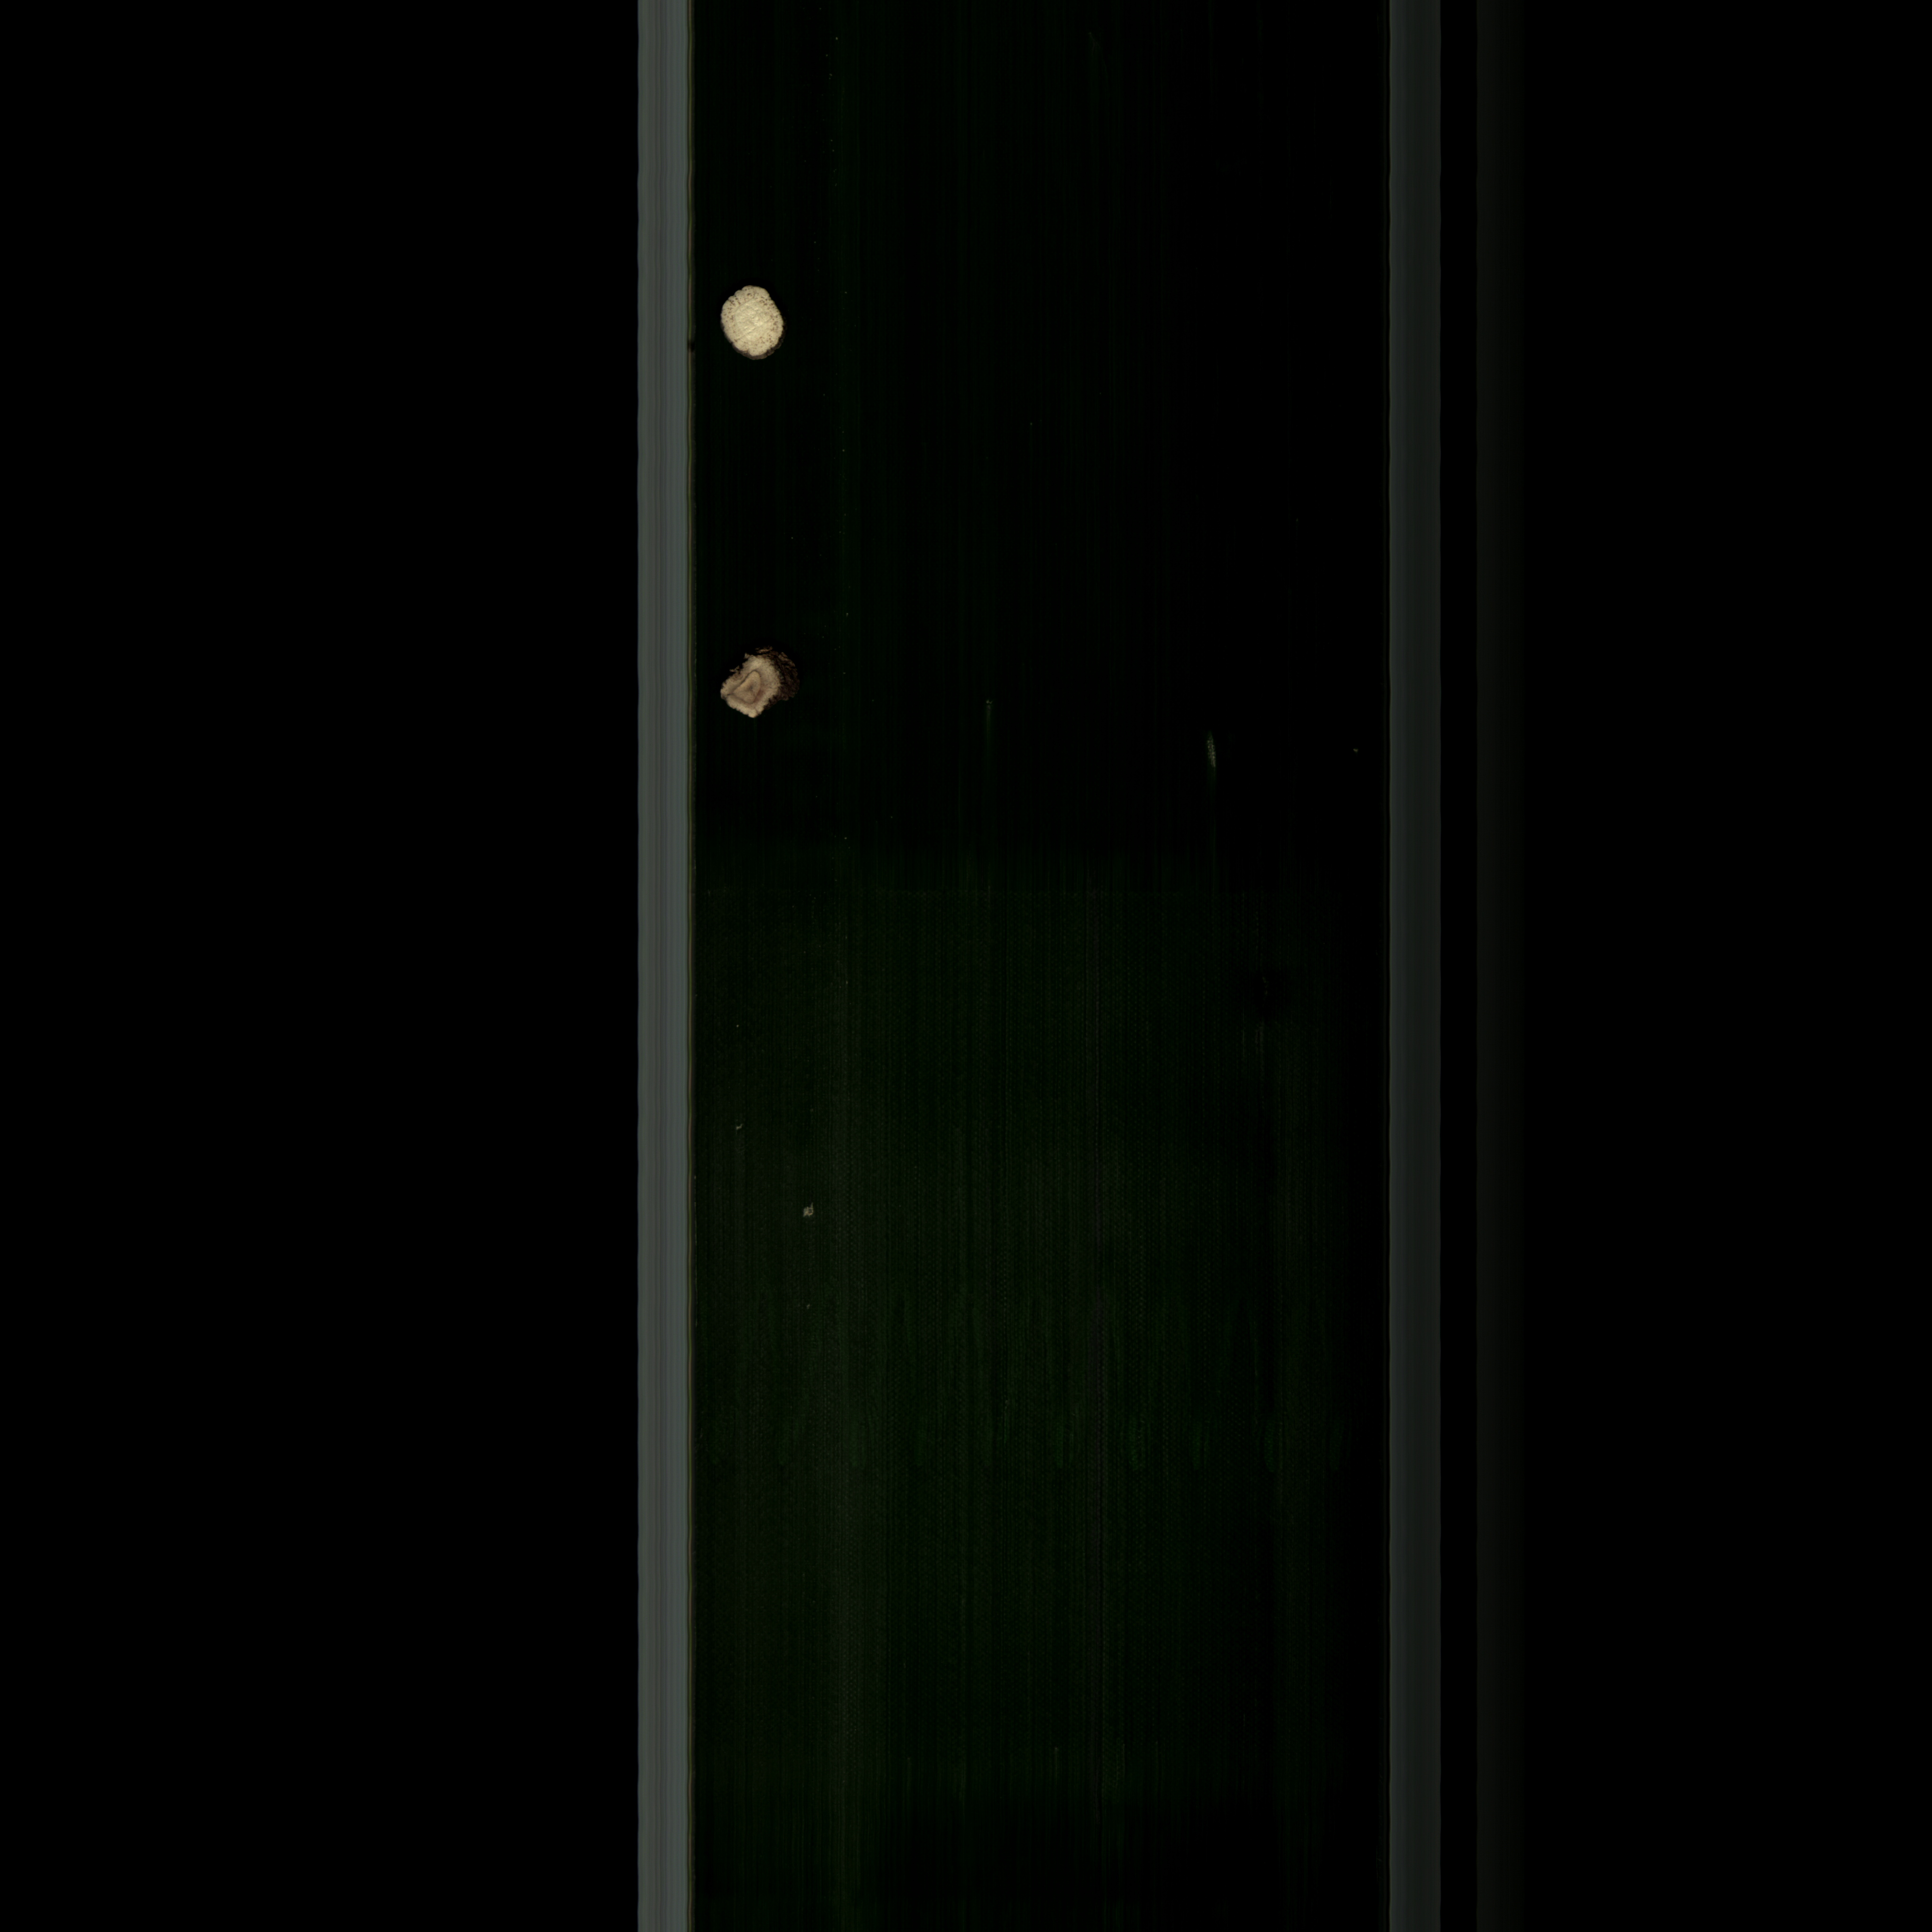moldy: (715, 642, 814, 729)
